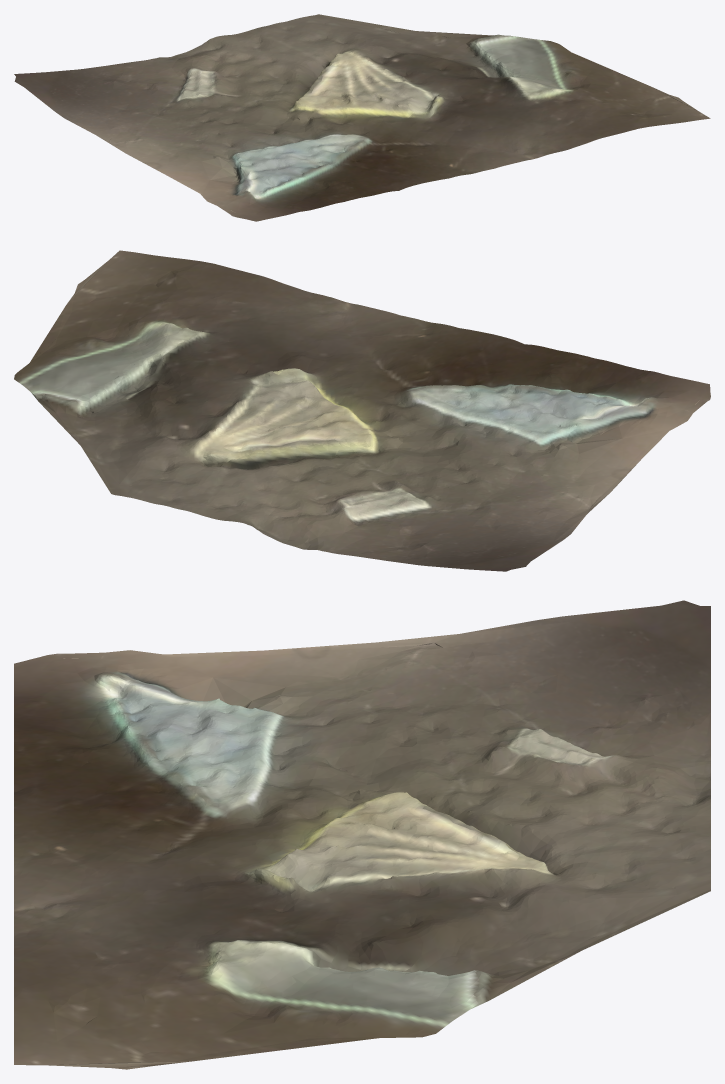
File: Glass Shards Assorted OLF 2025.gltf
3 renders of one model, top to bottom at view 1: azimuth 30°, elevation 25°; view 2: azimuth 150°, elevation 25°; view 3: azimuth 270°, elevation 25°, orthographic. The views are drawn at different scales.
Visible parts, largest first — view 1: Node1; view 2: Node1; view 3: Node1.
Part boxes in pixels (x1,y1,x2,y2): Node1: (14, 14, 710, 221); Node1: (14, 250, 710, 571); Node1: (14, 600, 710, 1069).
Bounding box in the file's own units: 0.2433 × 0.0127 × 0.1666.
Materials: 1 (1 with a texture image).
